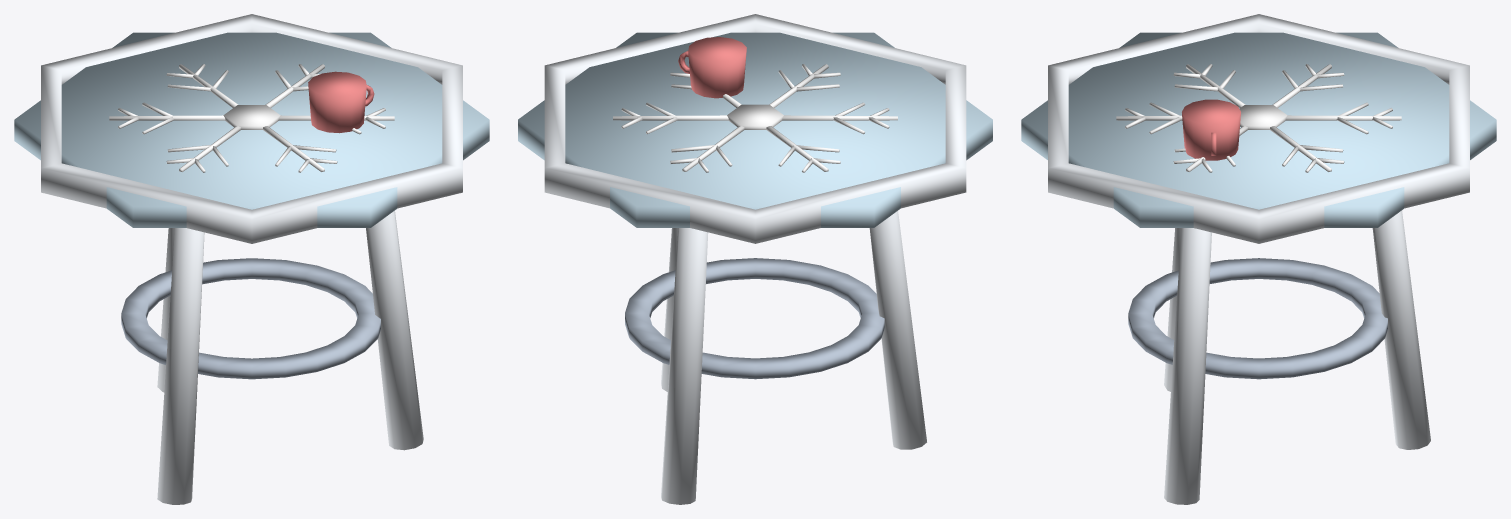
Rendered from snowflake-table.glb.
3 views of the same model, side by side, from view 1: azimuth 30°, elevation 25°; view 2: azimuth 150°, elevation 25°; view 3: azimuth 270°, elevation 25° (orthographic).
Visible parts, largest first — view 1: table; view 2: table; view 3: table.
Boxes of the visible parts, bbox=[...] form: table: bbox=[14, 14, 489, 504]; table: bbox=[518, 14, 992, 504]; table: bbox=[1021, 14, 1496, 504].
Bounding box in the file's own units: 0.82 × 0.6731 × 0.8.
